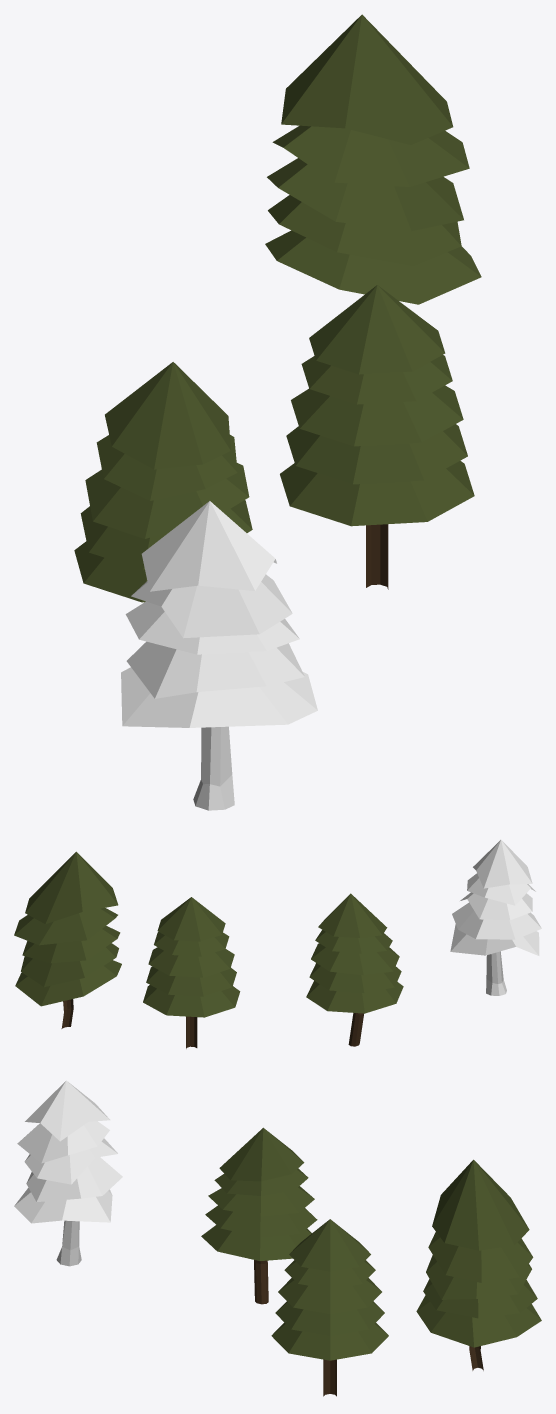
The picture shows the model from 3 angles, top to bottom: view 1: azimuth 30°, elevation 25°; view 2: azimuth 150°, elevation 25°; view 3: azimuth 270°, elevation 25°; orthographic projection. The views are drawn at different scales.
Parts seen in each view (by area): view 1: Circle.004, Circle.002, Circle.003, Circle.001; view 2: Circle.004, Circle.002, Circle.001, Circle.003; view 3: Circle.004, Circle.002, Circle.003, Circle.001.
Part boxes in pixels (box(x1,y1,x2,y2)): Circle.004: box(265, 14, 481, 304); Circle.002: box(280, 285, 474, 589); Circle.003: box(121, 501, 317, 810); Circle.001: box(74, 362, 252, 602); Circle.004: box(14, 851, 121, 1028); Circle.002: box(143, 897, 240, 1048); Circle.001: box(306, 893, 403, 1046); Circle.003: box(450, 840, 541, 995); Circle.004: box(416, 1159, 541, 1370); Circle.002: box(271, 1219, 388, 1396); Circle.003: box(14, 1080, 122, 1266); Circle.001: box(201, 1127, 317, 1304).
Bounding box in the file's own units: 988 × 626 × 1117.
